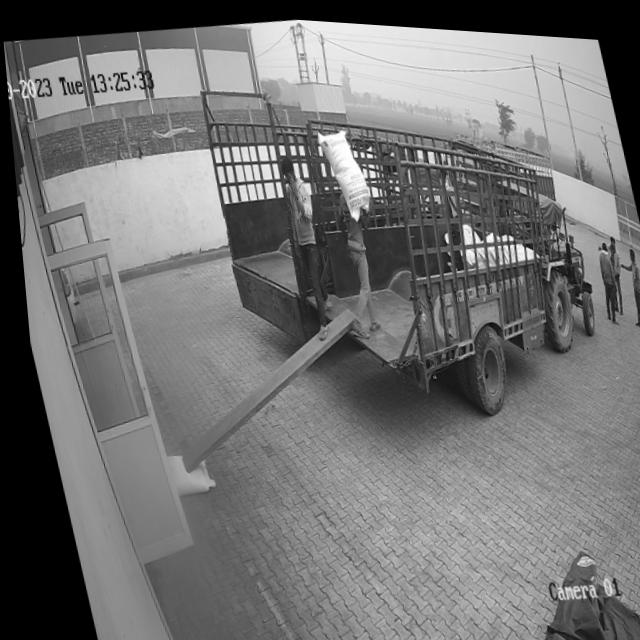sack: (313, 121, 372, 220), (157, 448, 209, 497)
